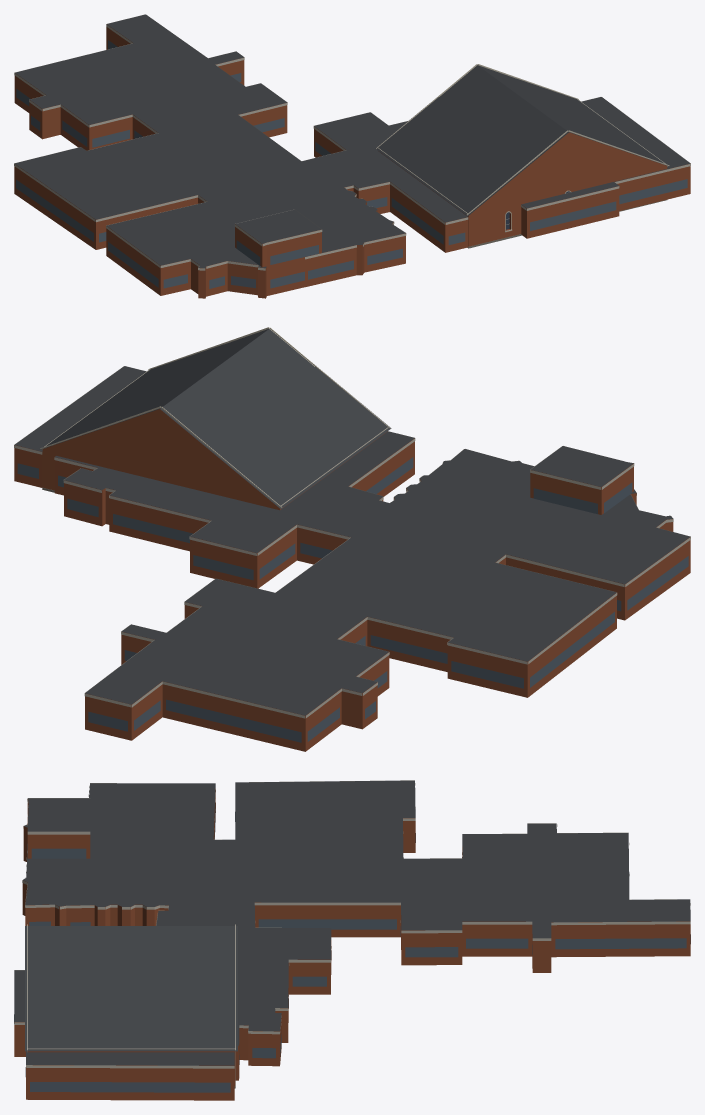
File: christ-the-king-catholic.glb
3 renders of one model, top to bottom at view 1: azimuth 30°, elevation 25°; view 2: azimuth 150°, elevation 25°; view 3: azimuth 270°, elevation 25°, orthographic. The views are drawn at different scales.
Visible parts, largest first — view 1: christ_the_king_catholic; view 2: christ_the_king_catholic; view 3: christ_the_king_catholic.
Part boxes in pixels (bbox=[...]): christ_the_king_catholic: bbox=[14, 14, 690, 298]; christ_the_king_catholic: bbox=[14, 327, 690, 751]; christ_the_king_catholic: bbox=[14, 780, 690, 1100].
Size of the model in its own units: 102 by 18.17 by 103.
